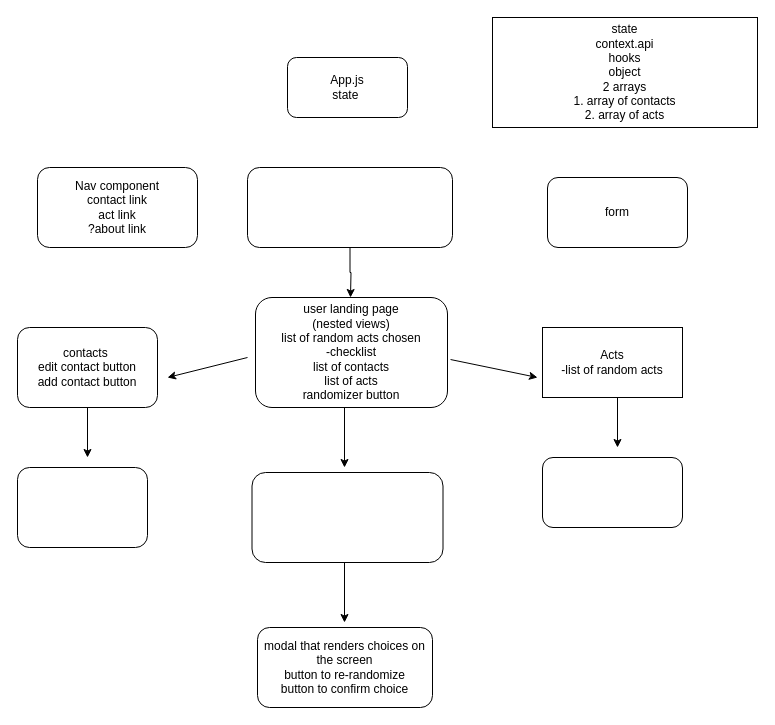
Image size: 775x725. Some labels were removed from this diagram. Here are the shapes that lost their labels. From the top down, the centre of each, then its label:
At point (349, 207): "Login/Signup Page ternary button for signup".
At point (82, 507): "contact -name -email -phone -address".
At point (612, 492): "Act -description of act".
At point (347, 517): "randomizer take a contact and an act and put them together".
